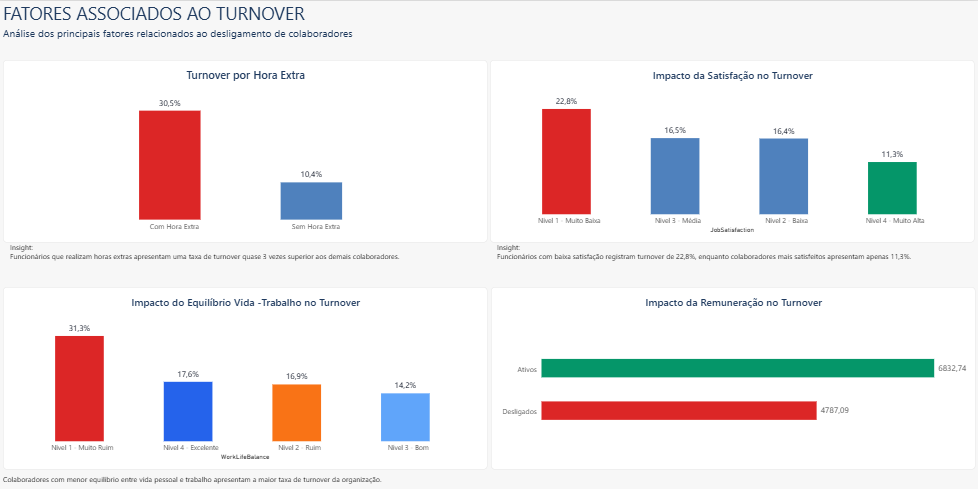

What the dashboard file says about the page in this screenshot:
{"tool":"powerbi","page":{"name":"Fatores Associados ao Turnover","canvas":[1920,1080],"ordinal":1},"visuals":[{"type":"textbox","title":"FATORES ASSOCIADOS AO TURNOVER","box":[10.6,0,1909.4,90.7],"z":0},{"type":"clusteredColumnChart","title":"Turnover por Hora Extra","fields":{"Category":["funcionarios.OverTime"],"Y":["funcionarios.Turnover - %"]},"box":[10,116,950,358],"z":1000},{"type":"textbox","box":[23.3,473.3,886.7,58.3],"z":2000},{"type":"clusteredColumnChart","title":"Impacto da Satisfação no Turnover","fields":{"Category":["funcionarios.JobSatisfaction"],"Y":["funcionarios.Turnover - %"]},"box":[965,115,950,357.5],"z":3000},{"type":"textbox","box":[978.3,473.3,905,46.7],"z":4000},{"type":"clusteredColumnChart","title":"Impacto do Equilíbrio Vida -Trabalho no Turnover","fields":{"Category":["funcionarios.WorkLifeBalance"],"Y":["funcionarios.Turnover - %"]},"box":[10,560,950,357.5],"z":5000},{"type":"textbox","box":[10,927.5,950,37.5],"z":6000},{"type":"clusteredBarChart","title":"Impacto da Remuneração no Turnover","fields":{"Category":["funcionarios.Attrition"],"Y":["funcionarios.Salário Médio novo"]},"box":[966,560,950,358],"z":7000}]}

Visuals, with their boxes on the page's 1920x1080 design canvas (x1, y1, x2, y2). These are canvas units, not pixel positions in the 978x489 screenshot, which may show the page scaled, cropped or inside an application window:
"FATORES ASSOCIADOS AO TURNOVER" textbox: select_region(11, 0, 1920, 91)
"Turnover por Hora Extra" clusteredColumnChart: select_region(10, 116, 960, 474)
textbox: select_region(23, 473, 910, 532)
"Impacto da Satisfação no Turnover" clusteredColumnChart: select_region(965, 115, 1915, 472)
textbox: select_region(978, 473, 1883, 520)
"Impacto do Equilíbrio Vida -Trabalho no Turnover" clusteredColumnChart: select_region(10, 560, 960, 918)
textbox: select_region(10, 928, 960, 965)
"Impacto da Remuneração no Turnover" clusteredBarChart: select_region(966, 560, 1916, 918)
